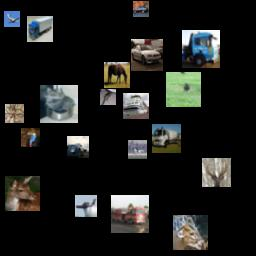airplane: (75, 195, 97, 217), (4, 11, 20, 27)
automobile: (131, 39, 163, 71), (67, 136, 89, 158), (133, 1, 149, 17)
bird: (166, 72, 201, 107), (21, 128, 40, 147)
cat: (40, 85, 78, 123), (5, 104, 24, 123), (100, 89, 116, 105)
deer: (173, 215, 208, 250), (5, 176, 40, 211), (202, 158, 231, 187)
ship: (123, 93, 149, 119)
truck: (111, 195, 149, 233), (182, 30, 220, 68), (152, 124, 181, 153), (27, 16, 53, 42)
